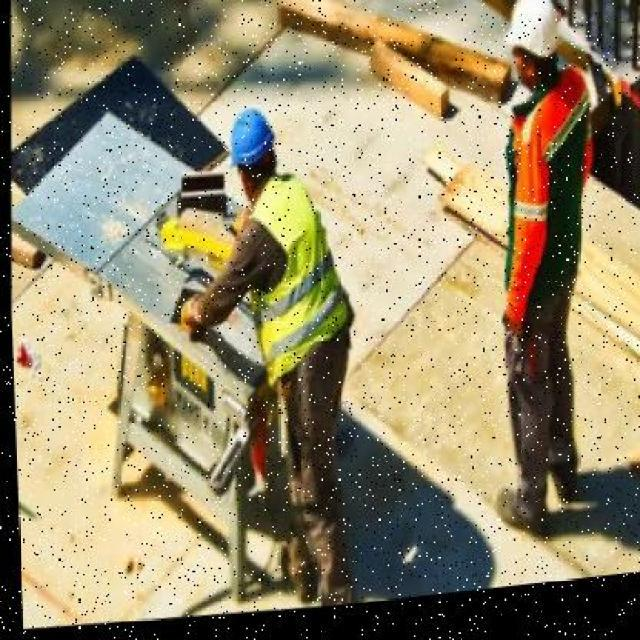helmet: (497, 0, 564, 83), (223, 111, 277, 187)
vest: (232, 172, 359, 362)
